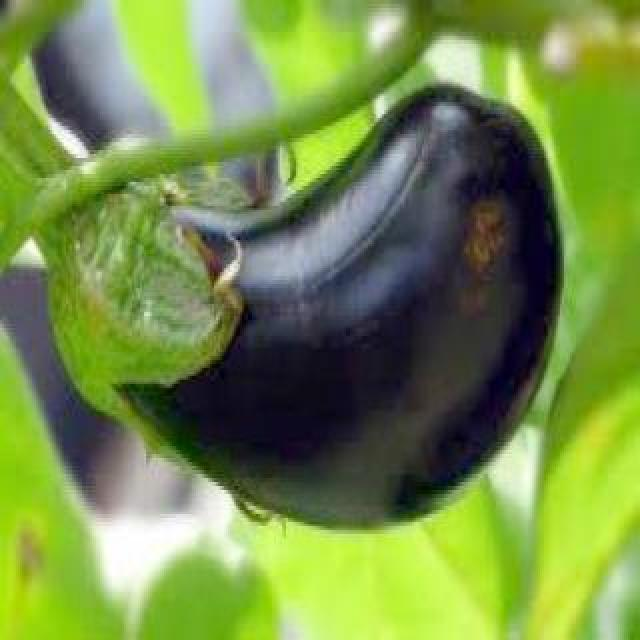Eggplant: (74, 80, 560, 530)
